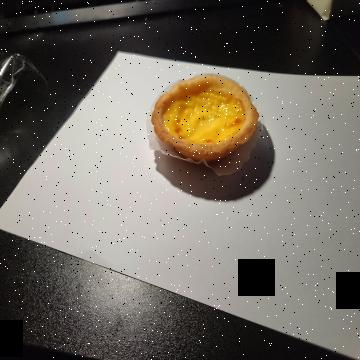EggTart: (150, 73, 260, 166)
